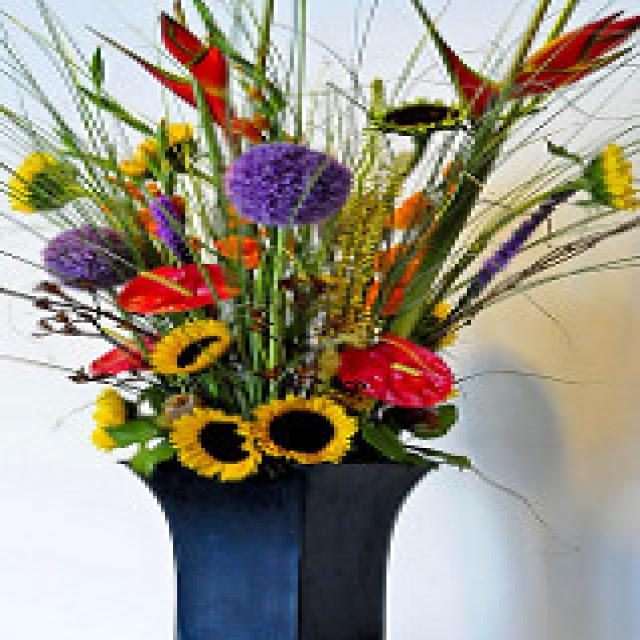sunflower: (244, 393, 356, 468), (166, 408, 262, 482), (4, 145, 76, 213), (579, 145, 640, 210), (156, 320, 228, 371)
